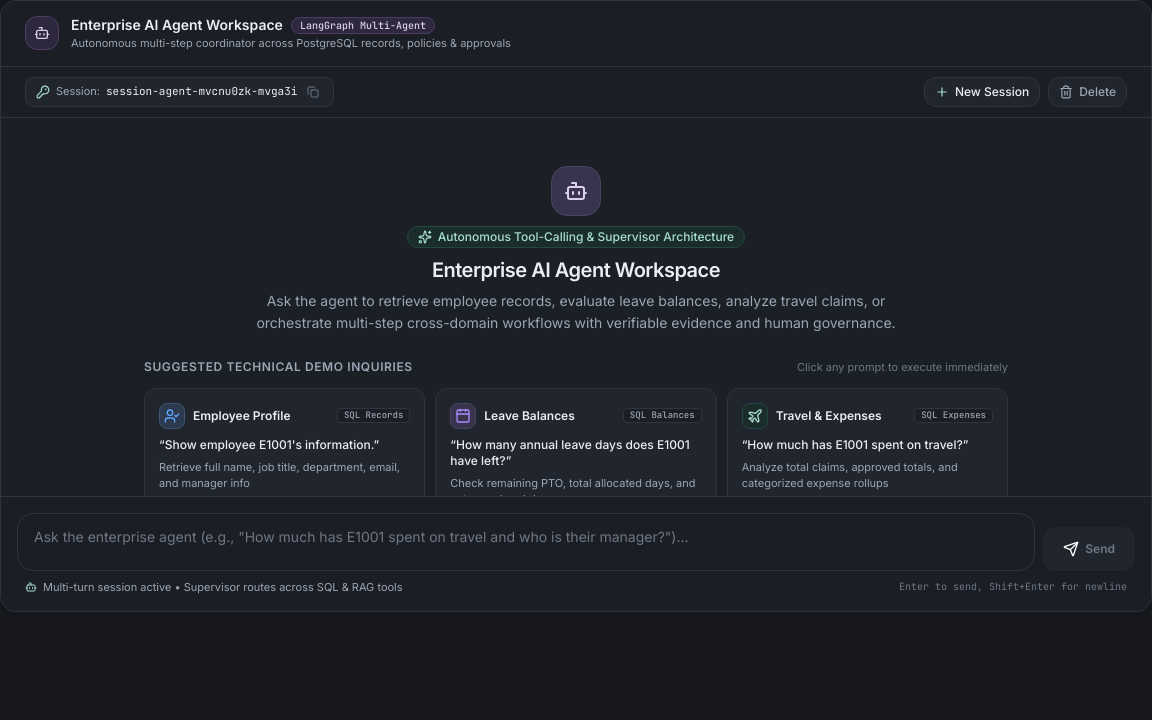
AgentChatWorkspace › handles agent API failure with safe error message
The image size is (1152, 720).
Type "Broken query" into the text box with placeholder "Ask the enterprise agent" at (526, 538), box [18,514,1034,564]
Then press Enter
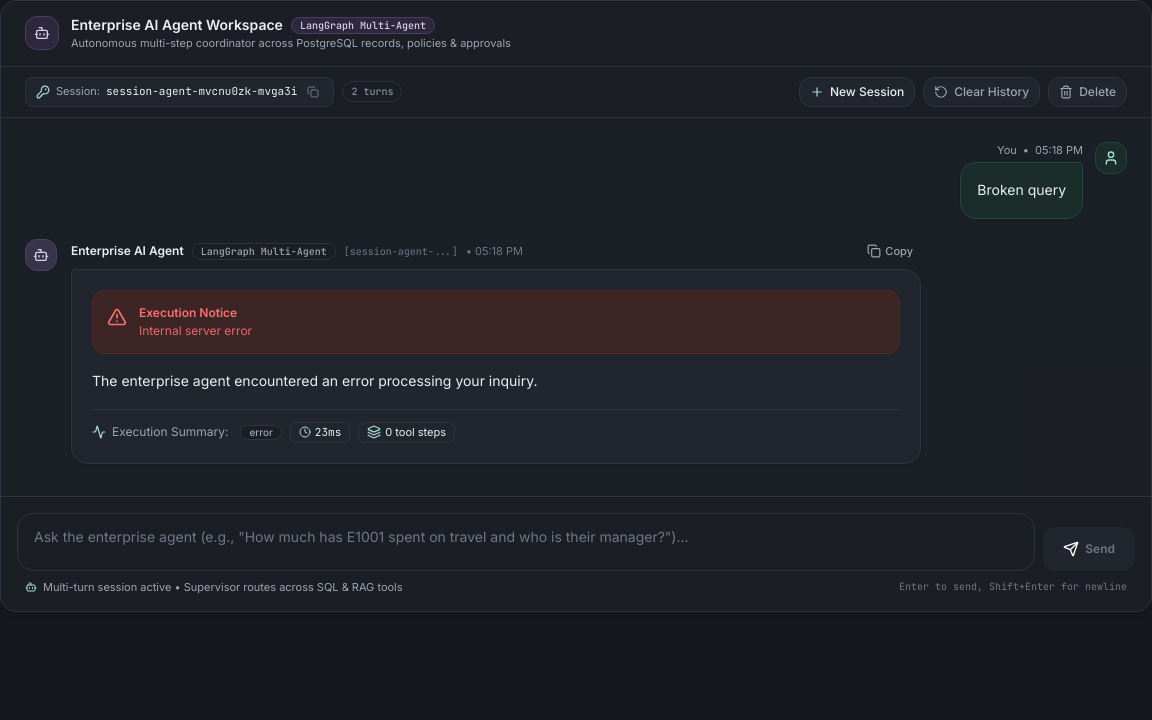
Check: the text "The enterprise agent encountered an error processing your inquiry." is shown, box [92,372,538,389]
Check: the text "Internal server error" is shown, box [139,323,252,339]
